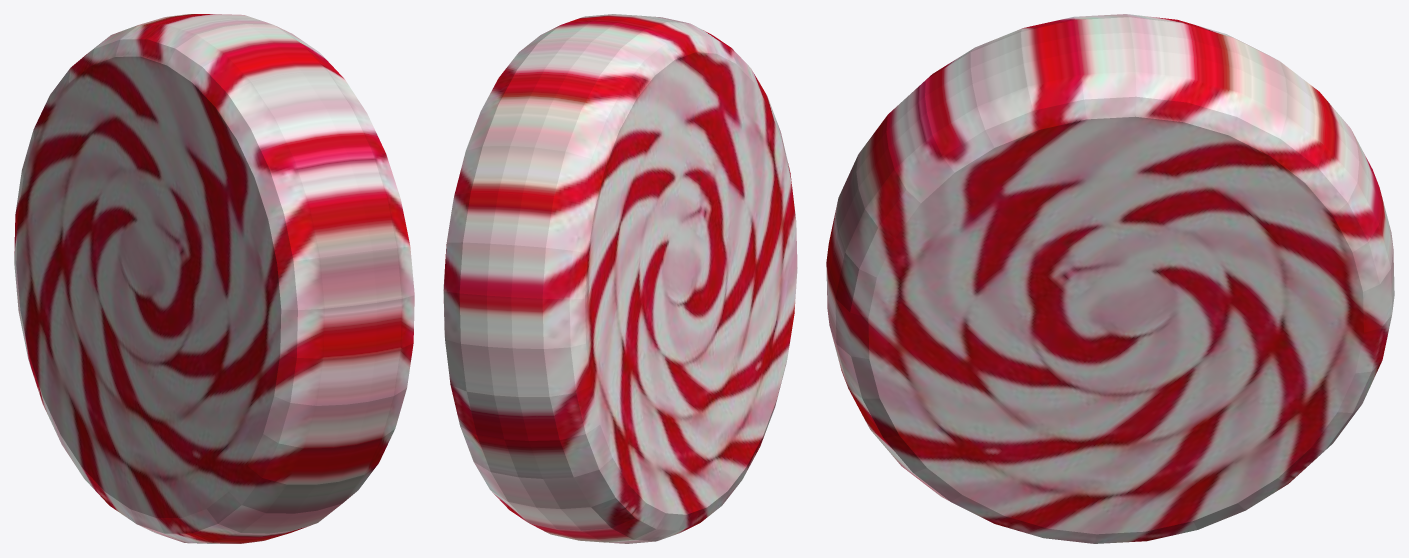
The model's file is Zaeltli-Spirale-unten-03.gltf.
3 renders of one model, left to right at view 1: azimuth 30°, elevation 25°; view 2: azimuth 150°, elevation 25°; view 3: azimuth 270°, elevation 25°, orthographic. The views are drawn at different scales.
Visible parts, largest first — view 1: Zaeltli-Spirale-unten-03; view 2: Zaeltli-Spirale-unten-03; view 3: Zaeltli-Spirale-unten-03.
Boxes of the visible parts, <box> form: Zaeltli-Spirale-unten-03: <box>14,14,414,543</box>; Zaeltli-Spirale-unten-03: <box>443,14,797,543</box>; Zaeltli-Spirale-unten-03: <box>826,14,1394,543</box>.
Size of the model in its own units: 0.4323 by 0.996 by 0.9982.
1 material, 1 textured.
